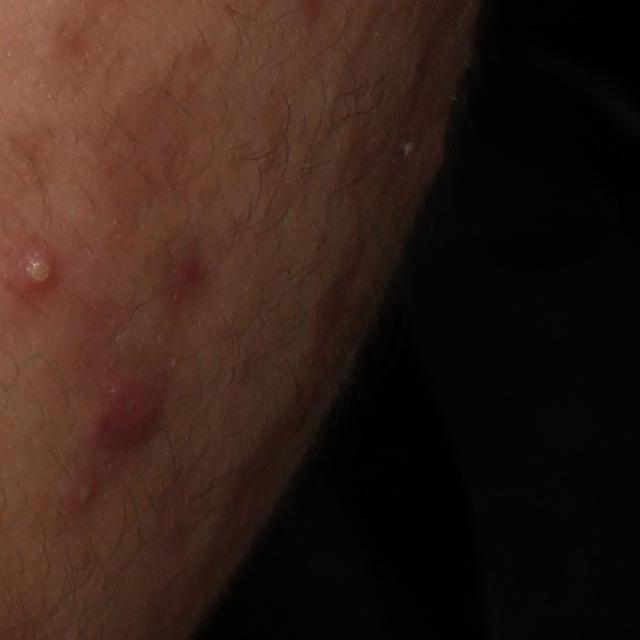papule: (90, 372, 172, 456)
pustule: (13, 249, 59, 295)
